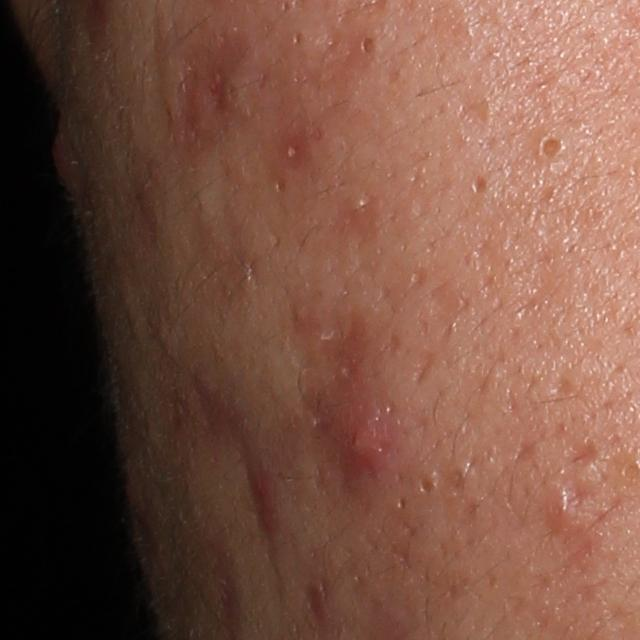atrophic_scar: (171, 16, 251, 157), (503, 215, 579, 323), (409, 276, 472, 393), (450, 81, 493, 153), (570, 438, 600, 472), (551, 369, 577, 396)
comedo: (533, 120, 572, 164), (447, 461, 473, 491), (467, 170, 493, 200), (358, 33, 383, 58), (418, 471, 439, 498), (291, 26, 309, 49), (394, 496, 407, 514)
papule: (323, 390, 397, 476), (248, 461, 276, 536), (545, 492, 573, 529)
